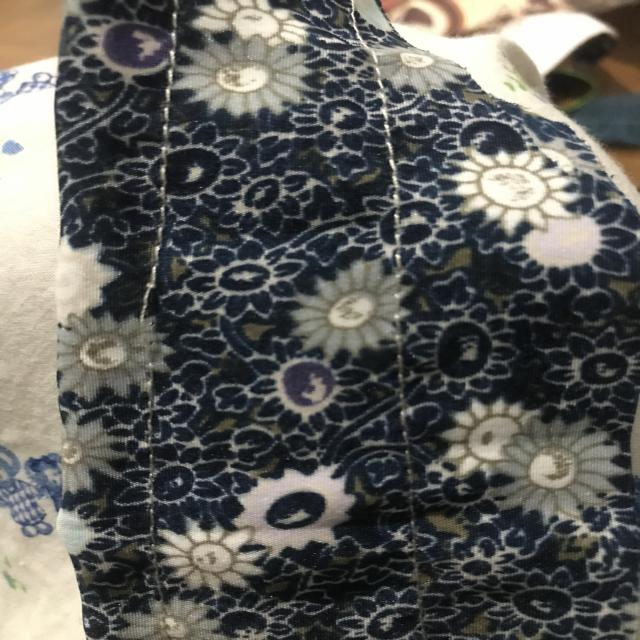skip: (121, 252, 172, 376)
